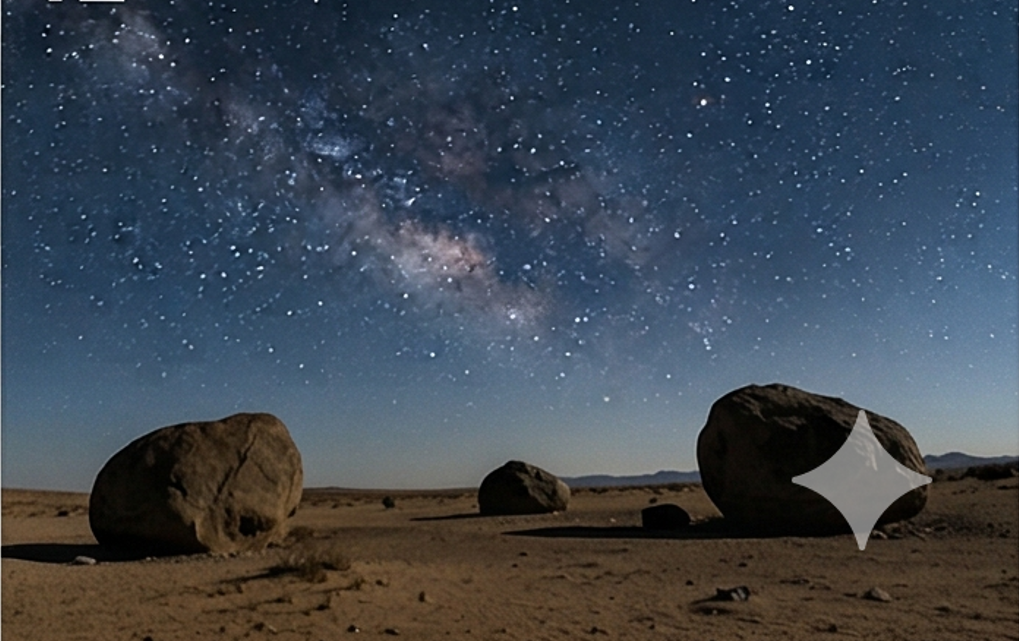rocks: (90, 413, 301, 552), (697, 385, 859, 530), (478, 461, 569, 514), (868, 414, 925, 473), (877, 486, 926, 523)
